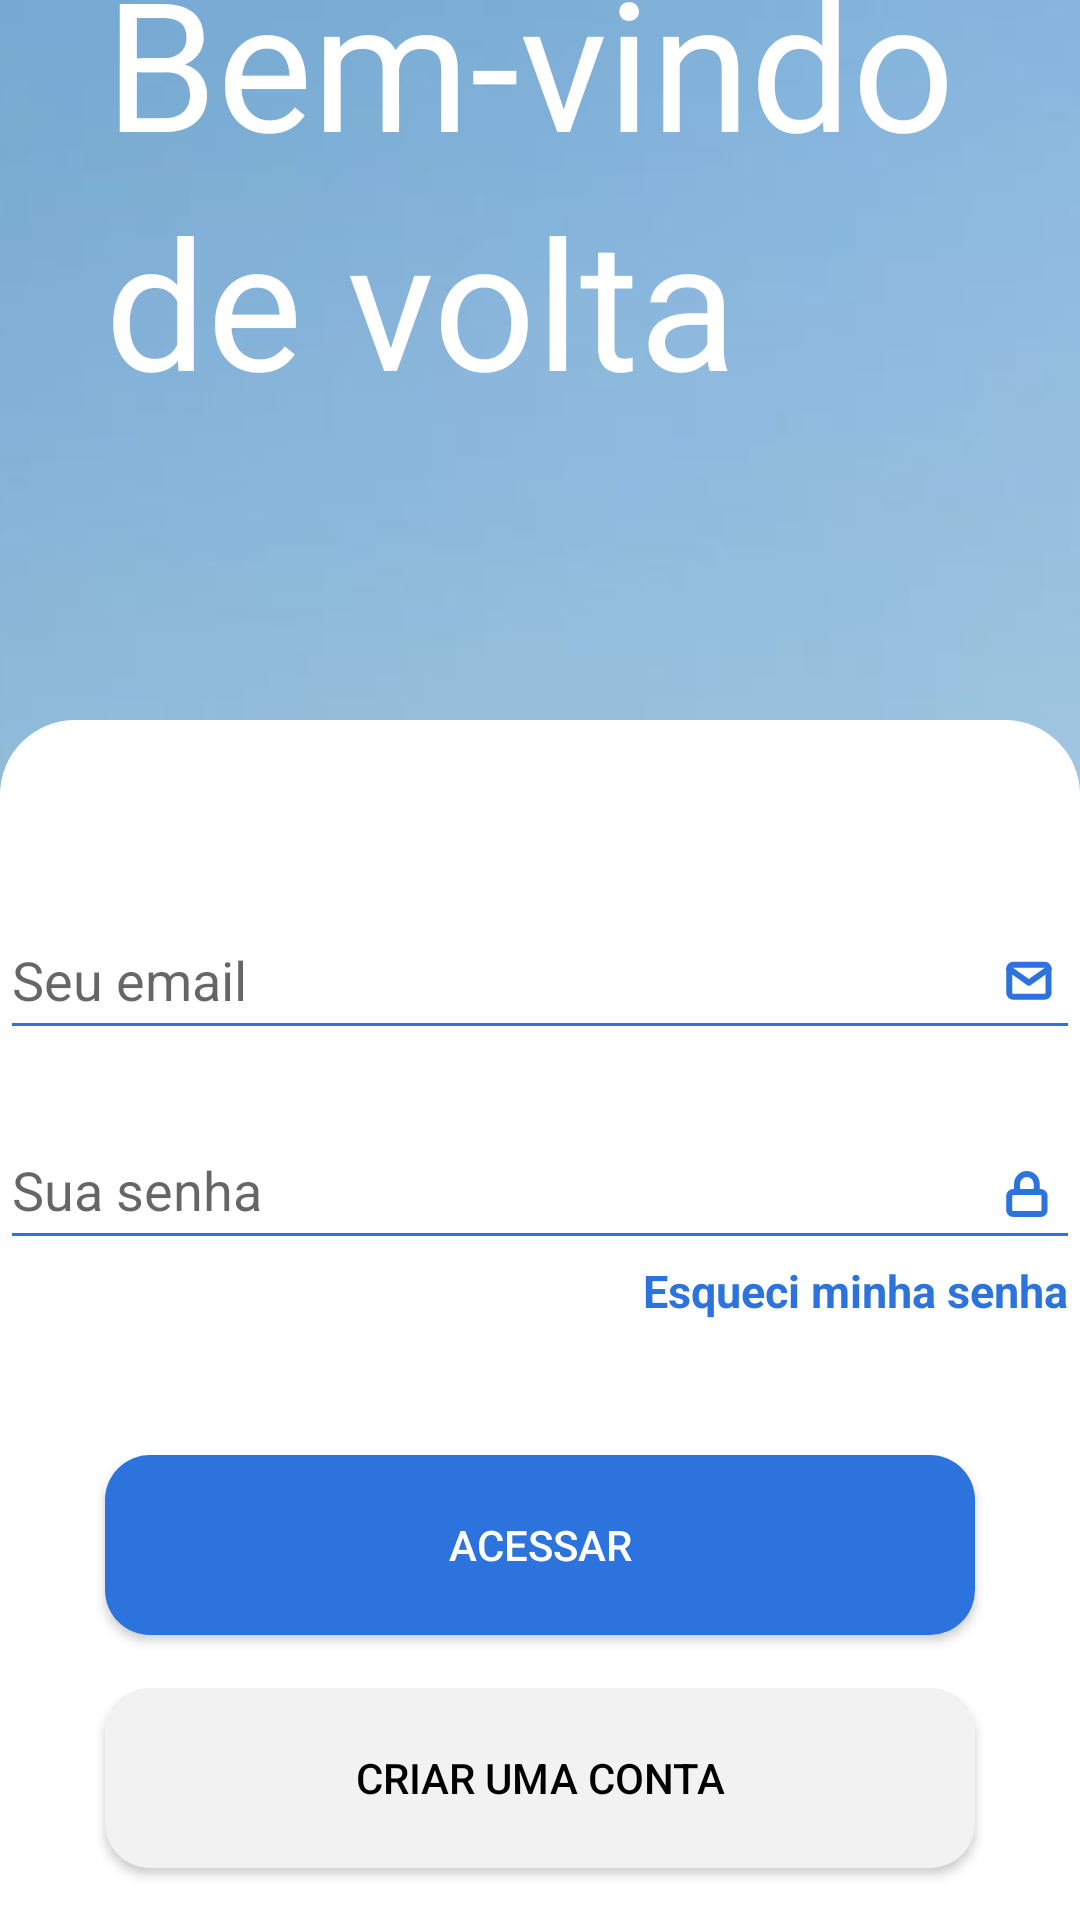

Locate icon controls on the screen. Image size 1080px×1920px, boxes as (x1, y1, x2, y2).
cadeado: (1006, 1171, 1048, 1217)
